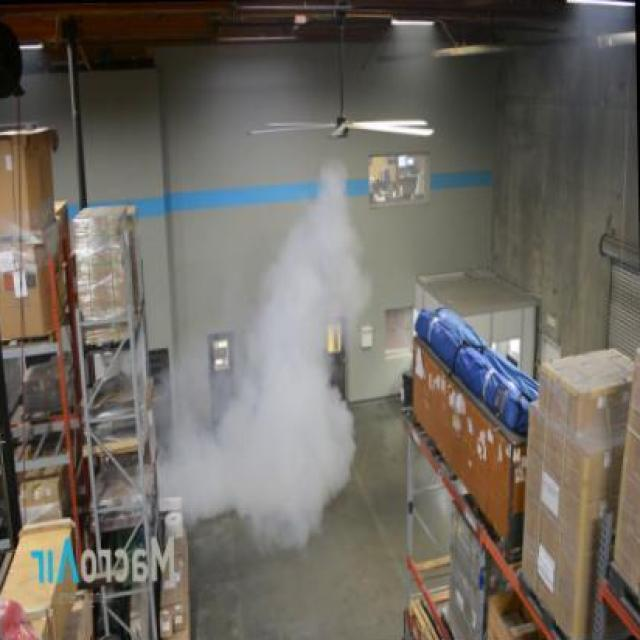fire: (182, 158, 373, 556)
